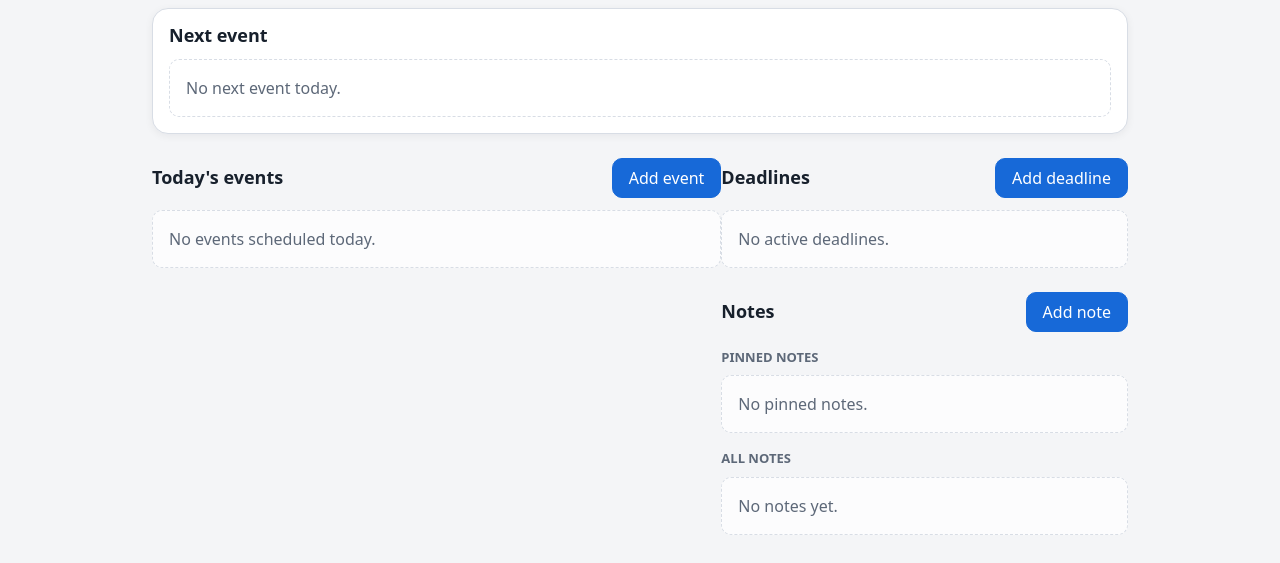
Scenario: App › adds, pins, unpins, and deletes a note
Click the button "Add note" at (1077, 312), box [1026, 292, 1128, 332]
(page scrolled)
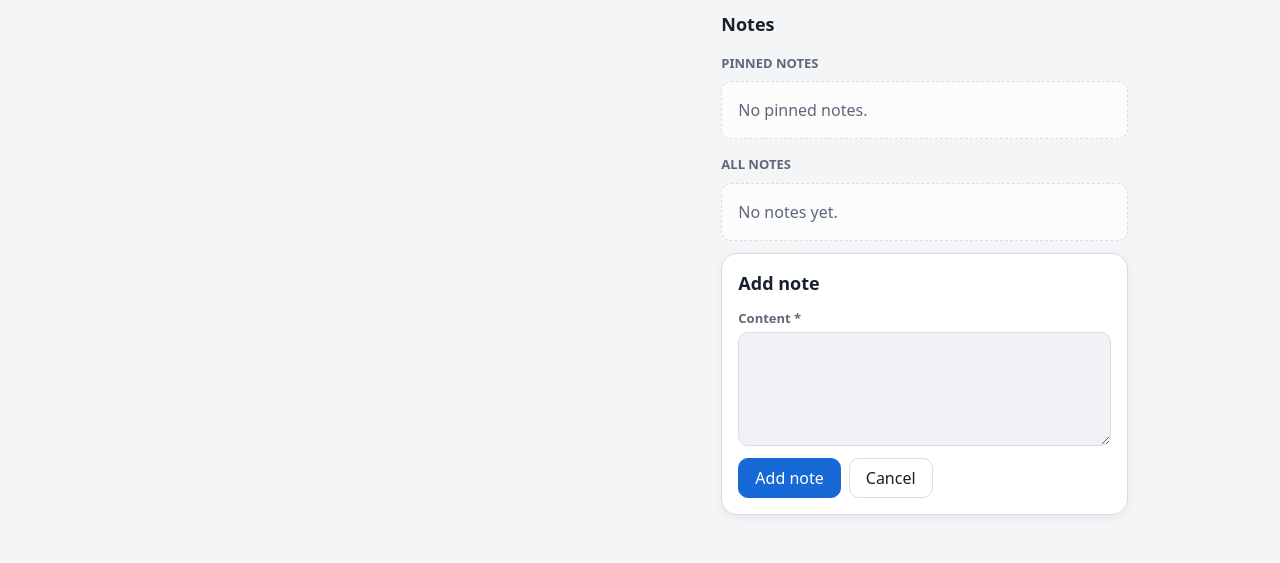
Type "Call advisor" into the text box labelled "Content *" at (925, 389), box [738, 332, 1111, 446]
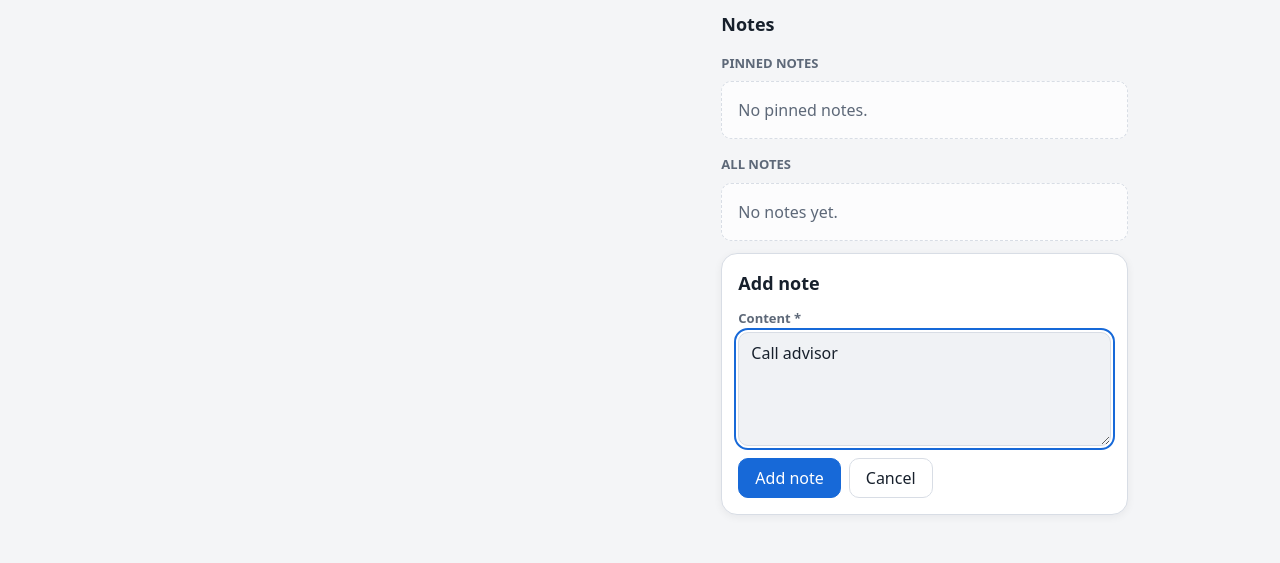
Click the button "Add note" at (790, 478), box [738, 458, 841, 498]
(page scrolled)
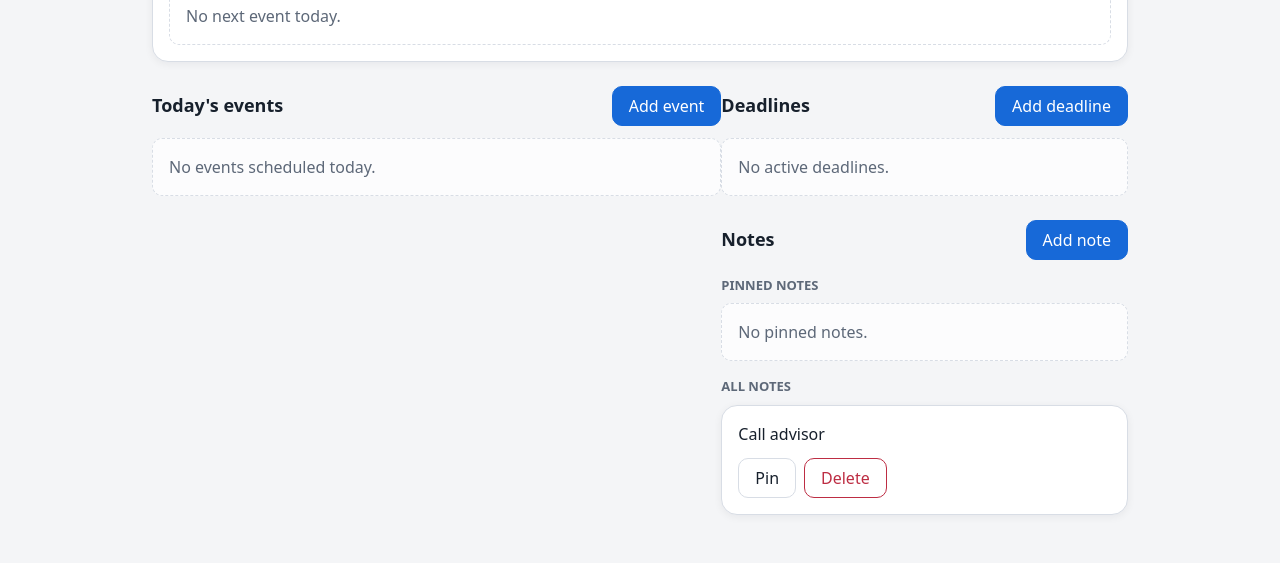
Click the button "Pin" at (767, 478), box [738, 458, 796, 498]
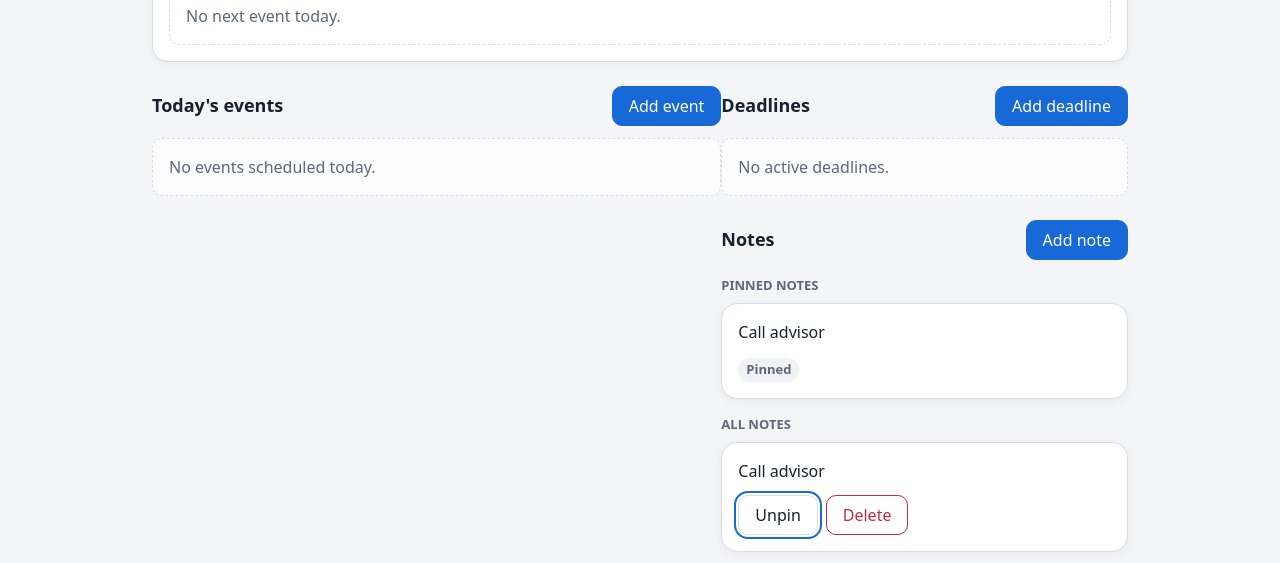
Expected: the text "Pinned" is shown, [738, 358, 799, 382]
Click the button "Unpin" at (778, 515), box [738, 495, 818, 535]
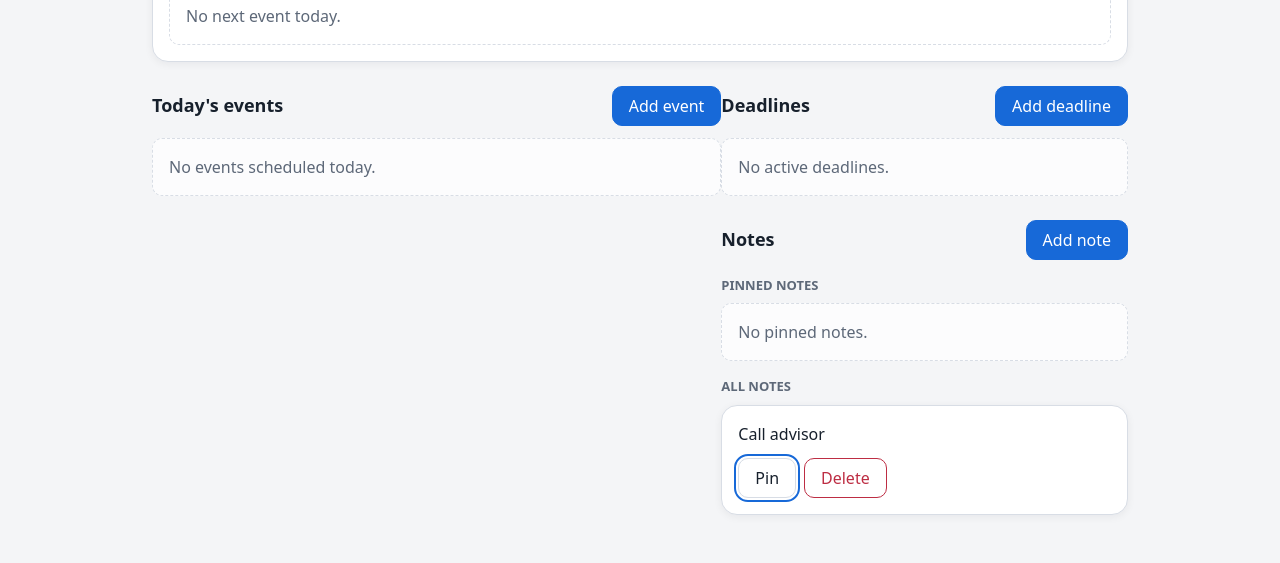
Result: the text "No pinned notes." is shown at [721, 303, 1128, 361]
Click the button "Delete" at (845, 478), box [804, 458, 887, 498]
(page scrolled)
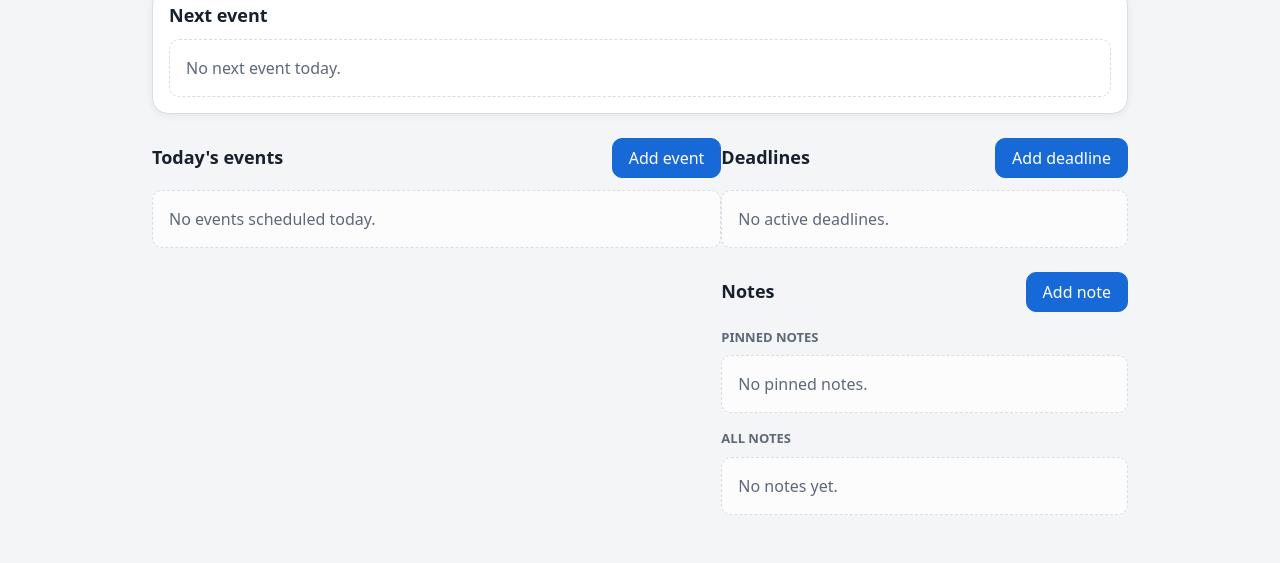
Result: the text "No notes yet." is shown at [721, 457, 1128, 515]
